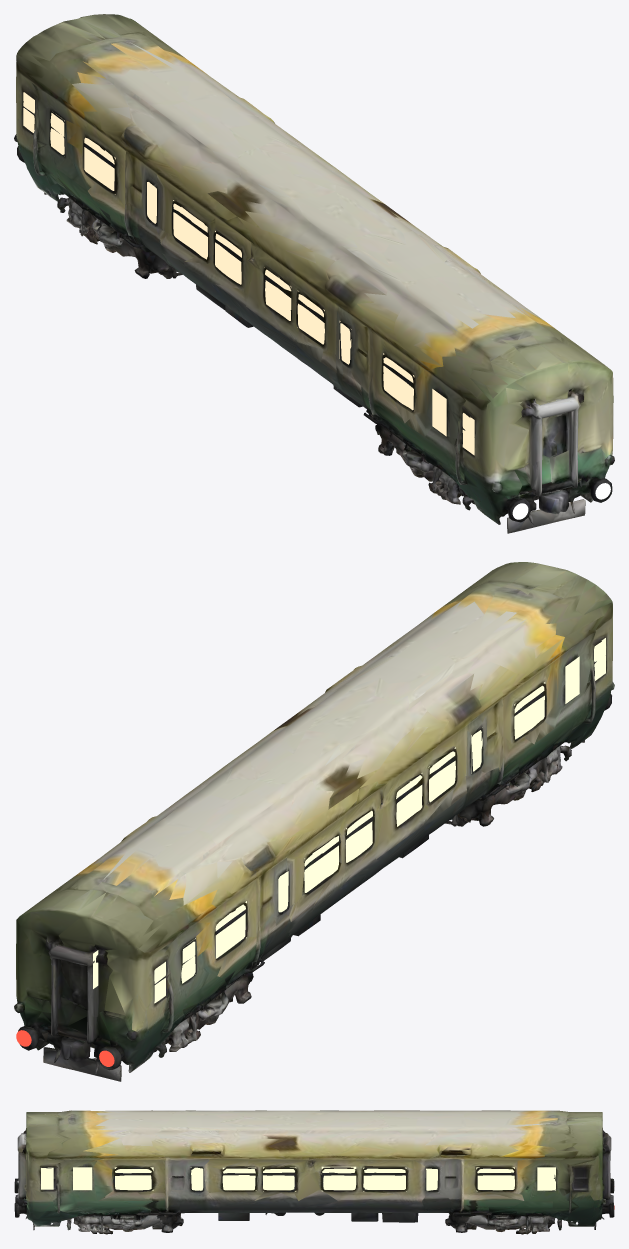
File: m-night.glb
3 renders of one model, top to bottom at view 1: azimuth 30°, elevation 25°; view 2: azimuth 150°, elevation 25°; view 3: azimuth 270°, elevation 25°, orthographic. The views are drawn at different scales.
Parts seen in each view (by area): view 1: Mesh_0, win_glass; view 2: Mesh_0, win_glass; view 3: Mesh_0, win_glass.
Boxes of the visible parts, x1,y1,x2,y2 form: Mesh_0: (14, 14, 614, 533); win_glass: (23, 92, 474, 455); Mesh_0: (14, 562, 614, 1081); win_glass: (93, 638, 605, 1003); Mesh_0: (14, 1110, 614, 1234); win_glass: (41, 1166, 555, 1191).
Bounding box in the file's own units: 0.3131 × 0.3583 × 1.91.
4 materials, 1 textured.
